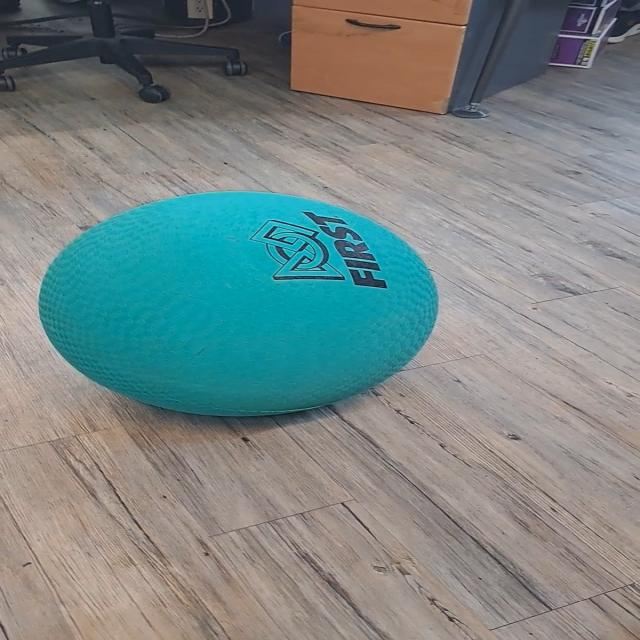ALGAE: (36, 189, 440, 418)
